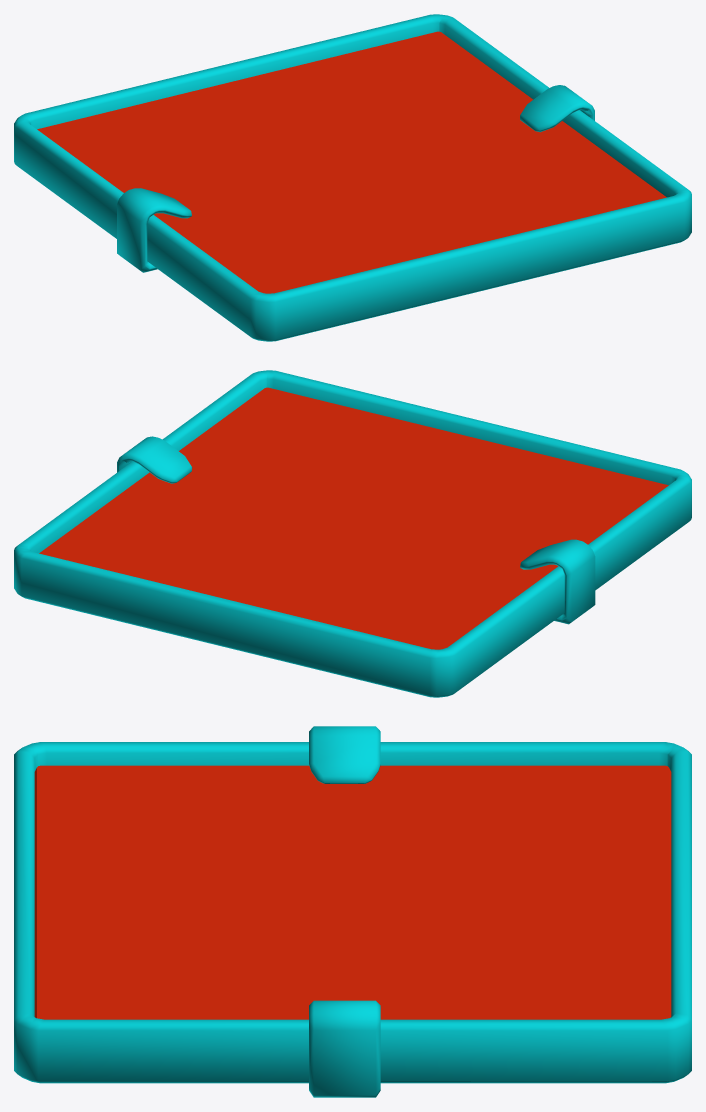
Rendered from squareRing.glb.
The picture shows the model from 3 angles, top to bottom: view 1: azimuth 30°, elevation 25°; view 2: azimuth 150°, elevation 25°; view 3: azimuth 270°, elevation 25°; orthographic projection. The views are drawn at different scales.
Visible parts, largest first — view 1: Cube.001; view 2: Cube.001; view 3: Cube.001.
Boxes of the visible parts, x1=… form: Cube.001: x1=14, y1=14, x2=691, y2=341; Cube.001: x1=14, y1=370, x2=691, y2=697; Cube.001: x1=14, y1=726, x2=691, y2=1097.
Bounding box in the file's own units: 2.14 × 0.2876 × 2.07.
